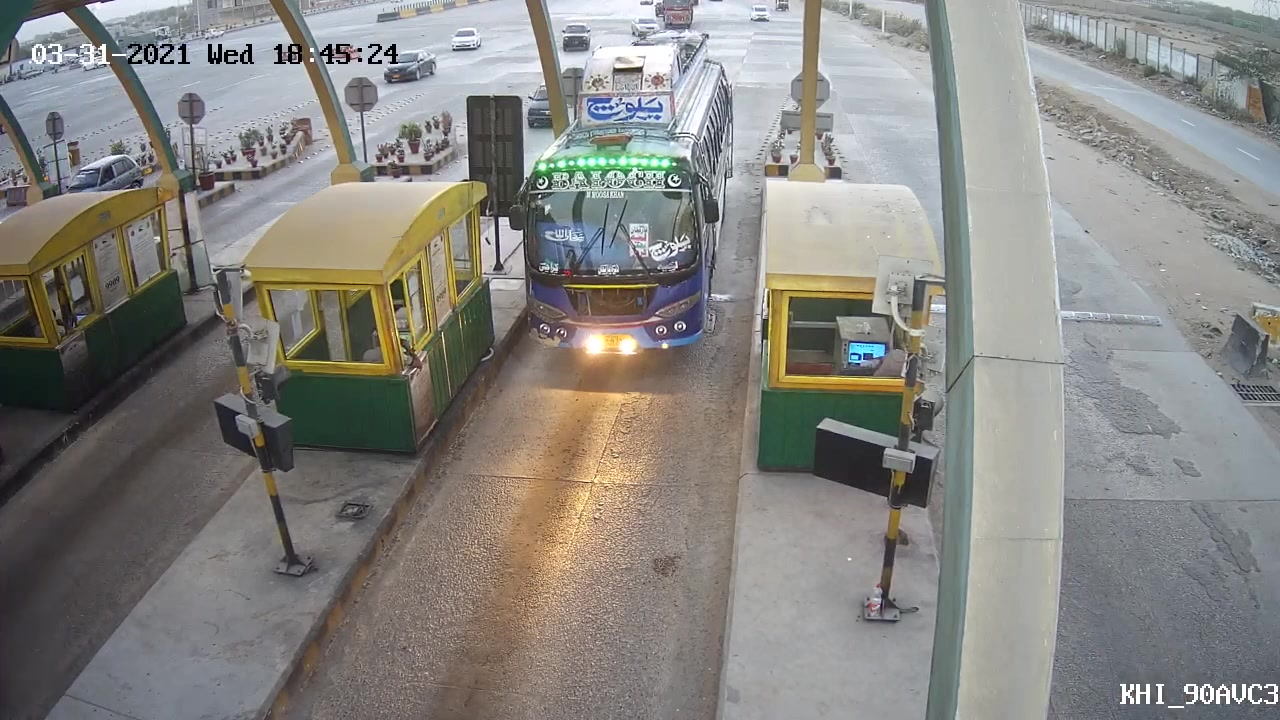F4: (496, 31, 736, 370)
